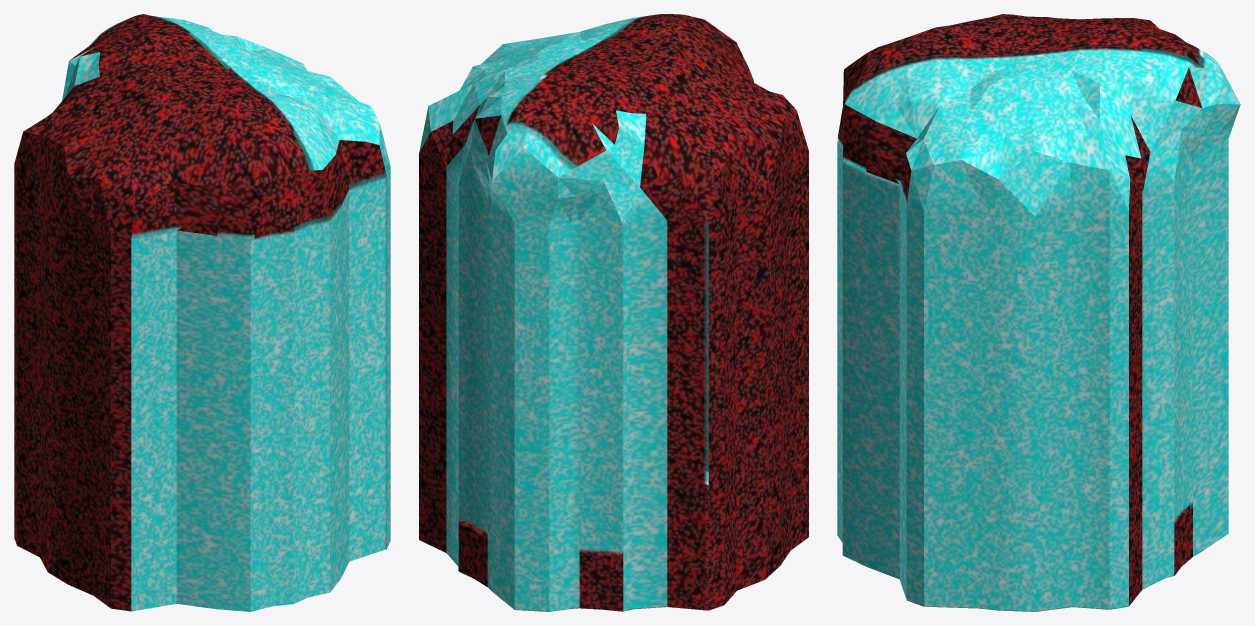
3 views of the same model, side by side, from view 1: azimuth 30°, elevation 25°; view 2: azimuth 150°, elevation 25°; view 3: azimuth 270°, elevation 25° (orthographic). The views are drawn at different scales.
Visible parts, largest first — view 1: SM_BO_Imaru_Cavern_LOD0; view 2: SM_BO_Imaru_Cavern_LOD0; view 3: SM_BO_Imaru_Cavern_LOD0.
Part boxes in pixels (bbox=[...]): SM_BO_Imaru_Cavern_LOD0: bbox=[14, 14, 390, 611]; SM_BO_Imaru_Cavern_LOD0: bbox=[419, 14, 808, 611]; SM_BO_Imaru_Cavern_LOD0: bbox=[837, 14, 1240, 611].
Bounding box in the file's own units: 269 × 408 × 296.
Materials: 1 (1 with a texture image).
